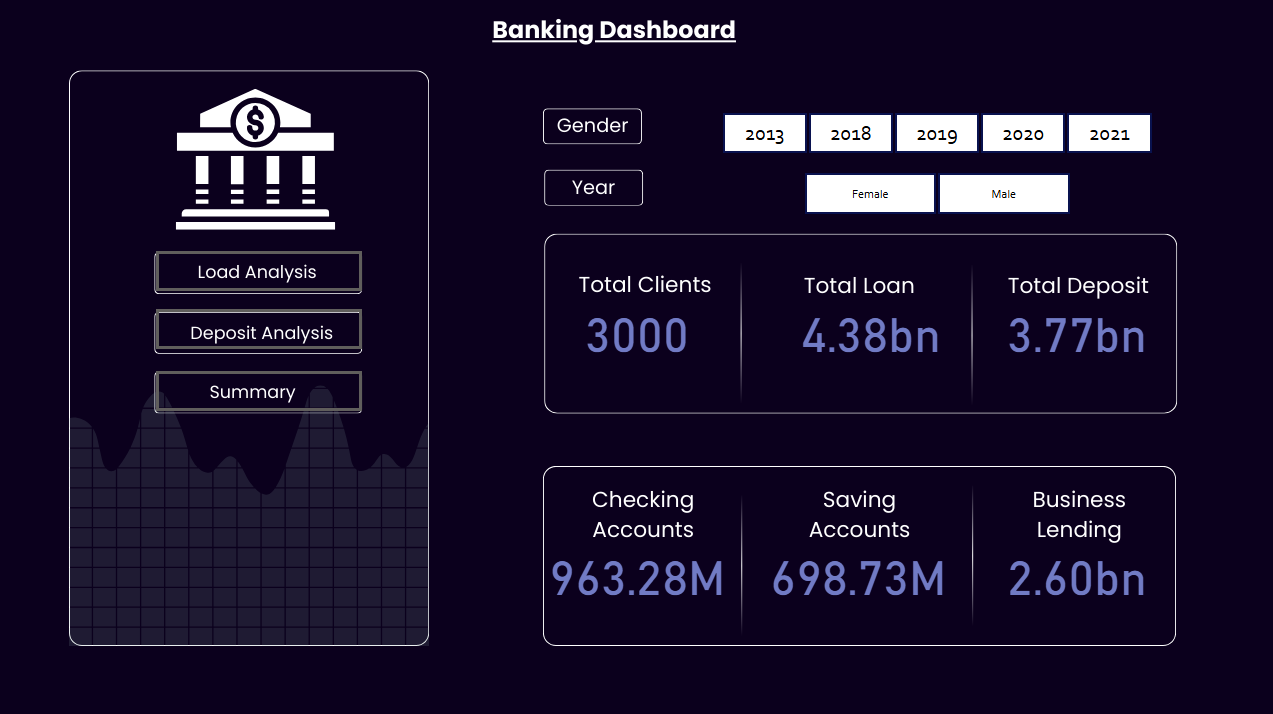

Layout of this report page (visuals, bound fields, positions):
{"tool":"powerbi","page":{"name":"Home","canvas":[1280,720],"ordinal":0},"visuals":[{"type":"card","fields":{"Values":["banking_case customer.Total Clients"]},"box":[500.1,280.2,280.2,102],"z":0},{"type":"slicer","fields":{"Values":["banking_case customer.GenderId"]},"box":[782.1,167.6,314.8,55],"z":1000},{"type":"card","fields":{"Values":["banking_case customer.Total Loan"]},"box":[734.2,280.2,280.2,102],"z":2000},{"type":"card","fields":{"Values":["banking_case customer.Total Deposit"]},"box":[939.9,280.2,280.2,102],"z":3000},{"type":"slicer","fields":{"Values":["banking_case customer.Year of Joining"]},"box":[700.5,108.2,478.8,52.3],"z":4000},{"type":"card","fields":{"Values":["Sum(banking_case customer.Business Lending)"]},"box":[939.9,523.2,280.2,102.9],"z":5000},{"type":"card","fields":{"Values":["Sum(banking_case customer.Saving Accounts)"]},"box":[720.9,523.2,280.2,102.9],"z":6000},{"type":"card","fields":{"Values":["Sum(banking_case customer.Checking Accounts)"]},"box":[500.1,523.2,280.2,102.9],"z":7000},{"type":"actionButton","box":[159,253,206,40],"z":8000},{"type":"actionButton","box":[159,311,206,40],"z":9000},{"type":"actionButton","box":[159,373,206,40],"z":10000}]}

Visuals, with their boxes in screenshot pixels (x1, y1, x2, y2), scaled from the page's 1280x720 canvas onto the 1273x714 screenshot:
card - banking_case customer.Total Clients: {"x1": 497, "y1": 278, "x2": 776, "y2": 379}
slicer - banking_case customer.GenderId: {"x1": 778, "y1": 166, "x2": 1091, "y2": 221}
card - banking_case customer.Total Loan: {"x1": 730, "y1": 278, "x2": 1009, "y2": 379}
card - banking_case customer.Total Deposit: {"x1": 935, "y1": 278, "x2": 1213, "y2": 379}
slicer - banking_case customer.Year of Joining: {"x1": 697, "y1": 107, "x2": 1173, "y2": 159}
card - Sum(banking_case customer.Business Lending): {"x1": 935, "y1": 519, "x2": 1213, "y2": 621}
card - Sum(banking_case customer.Saving Accounts): {"x1": 717, "y1": 519, "x2": 996, "y2": 621}
card - Sum(banking_case customer.Checking Accounts): {"x1": 497, "y1": 519, "x2": 776, "y2": 621}
actionButton: {"x1": 158, "y1": 251, "x2": 363, "y2": 291}
actionButton: {"x1": 158, "y1": 308, "x2": 363, "y2": 348}
actionButton: {"x1": 158, "y1": 370, "x2": 363, "y2": 410}
